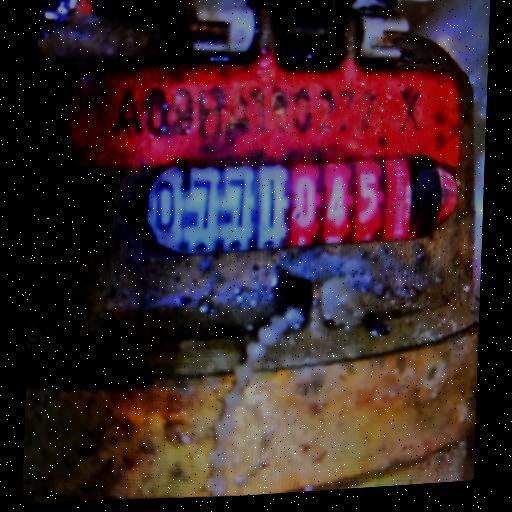0: (143, 163, 183, 254), (288, 161, 322, 246)
1: (256, 163, 292, 248)
4: (320, 159, 357, 244)
5: (352, 158, 386, 243)
7: (179, 165, 222, 253), (218, 163, 259, 250)
border_water_meter_number: (143, 141, 459, 264)
